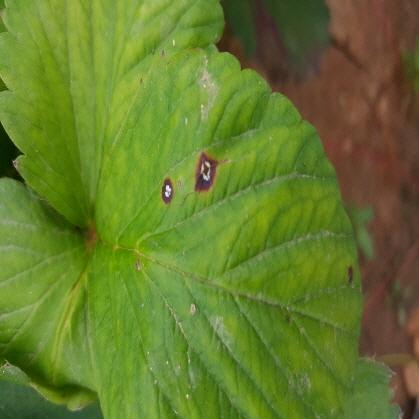Leaf Spot: (84, 44, 361, 418)
